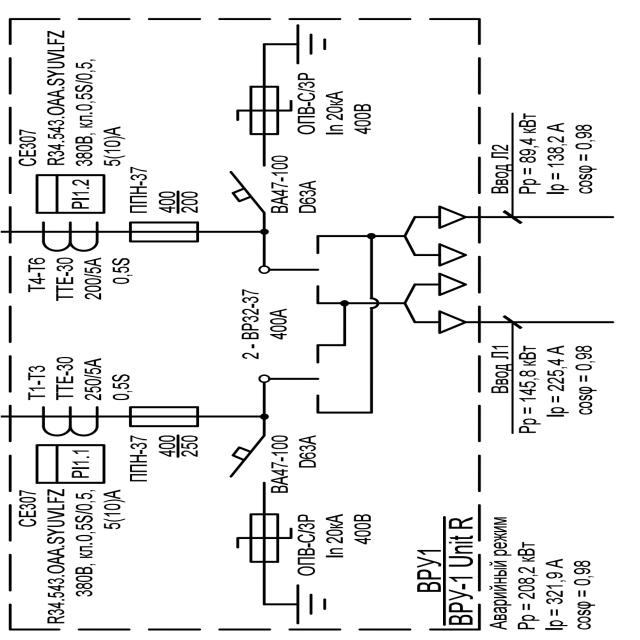-: (17, 484, 125, 626), (18, 29, 129, 167), (414, 514, 477, 627), (295, 507, 371, 579), (294, 72, 376, 138), (52, 356, 142, 404), (54, 256, 135, 307), (128, 432, 199, 484), (128, 166, 201, 215), (267, 433, 318, 501), (268, 154, 318, 216), (268, 308, 291, 340)
FU: (125, 219, 203, 248), (126, 404, 204, 430)
FV: (232, 80, 292, 137), (234, 512, 295, 566)
QF: (227, 163, 269, 214), (228, 436, 270, 486)
TT: (36, 218, 106, 253), (38, 404, 103, 439)
WH: (34, 172, 106, 215), (33, 442, 106, 483)
switch: (265, 347, 336, 408), (270, 238, 330, 300)
